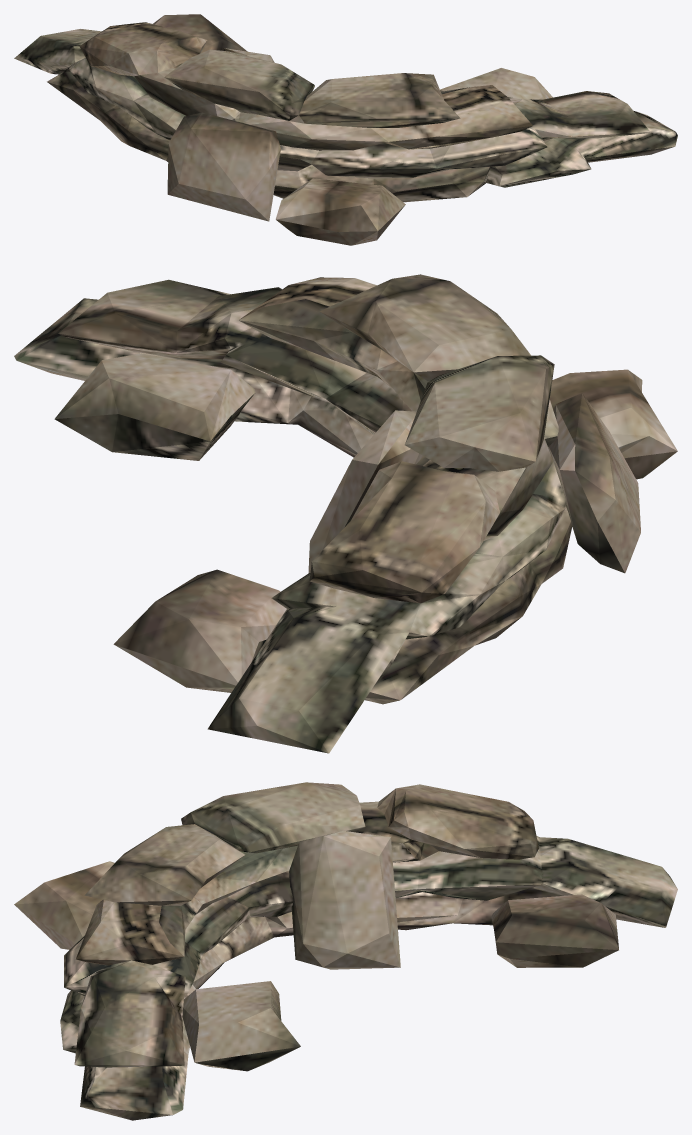
Rendered from sandbags_01.obj.
The picture shows the model from 3 angles, top to bottom: view 1: azimuth 30°, elevation 25°; view 2: azimuth 150°, elevation 25°; view 3: azimuth 270°, elevation 25°; orthographic projection. The views are drawn at different scales.
Visible parts, largest first — view 1: sandbags_01; view 2: sandbags_01; view 3: sandbags_01.
Boxes of the visible parts, left/top/right/bottom form: sandbags_01: left=14, top=14, right=677, bottom=245; sandbags_01: left=14, top=274, right=677, bottom=753; sandbags_01: left=14, top=782, right=677, bottom=1120.
Size of the model in its own units: 6.6 by 1.69 by 7.49.
